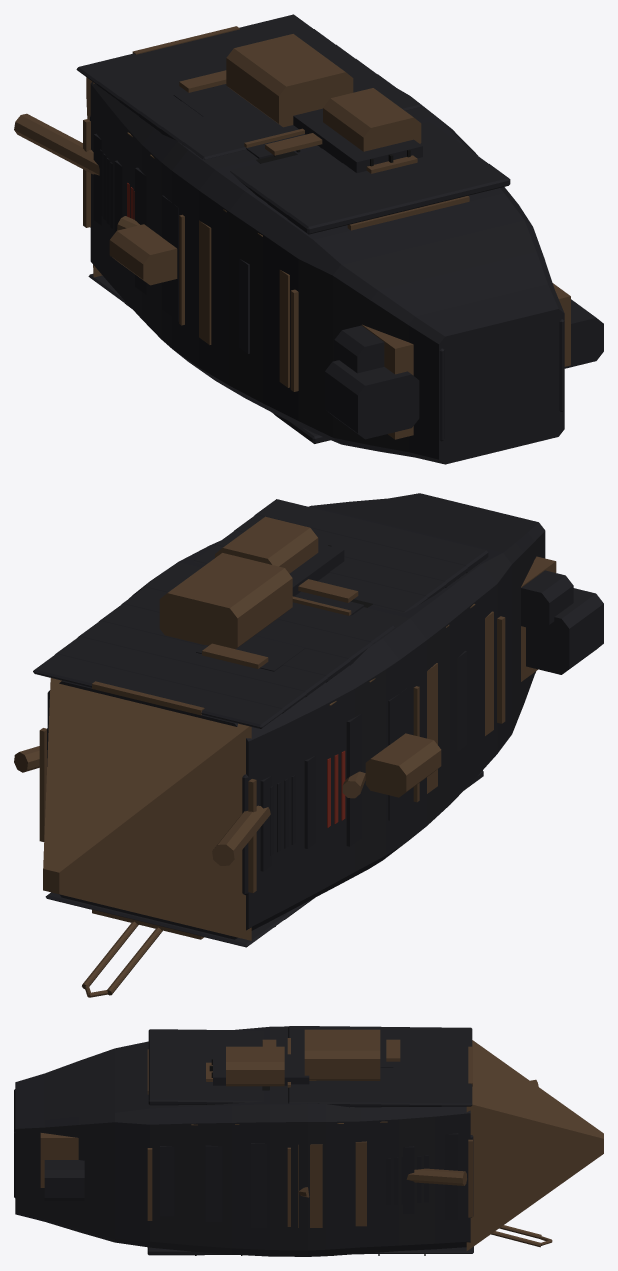
3 renders of one model, top to bottom at view 1: azimuth 30°, elevation 25°; view 2: azimuth 150°, elevation 25°; view 3: azimuth 270°, elevation 25°, orthographic. The views are drawn at different scales.
Visible parts, largest first — view 1: RIMWARD_HULL; view 2: RIMWARD_HULL; view 3: RIMWARD_HULL.
Part boxes in pixels (x1,y1,x2,y2): RIMWARD_HULL: (14,14,603,464); RIMWARD_HULL: (14,493,603,997); RIMWARD_HULL: (14,1026,603,1256).
Size of the model in its own units: 7.13 by 6.67 by 17.14.
